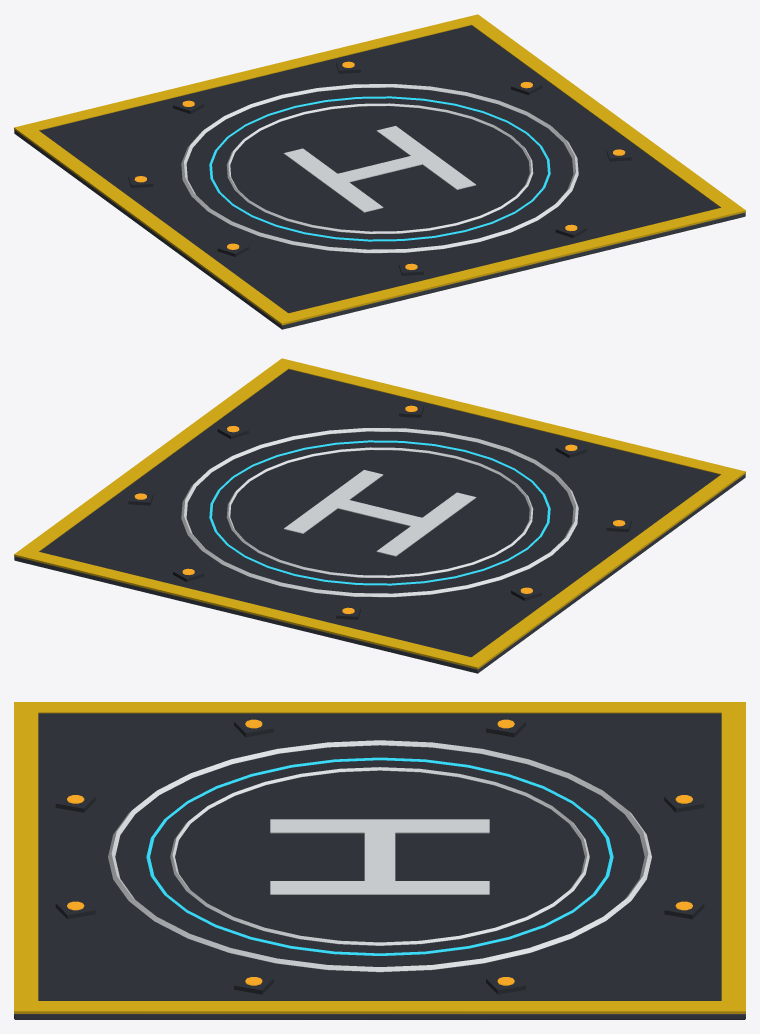
The model's file is hangartool_landing_pad_circle.glb.
3 views of the same model, one above another, from view 1: azimuth 30°, elevation 25°; view 2: azimuth 150°, elevation 25°; view 3: azimuth 270°, elevation 25° (orthographic). The views are drawn at different scales.
Parts seen in each view (by area): view 1: hangartool_landing_pad_circle; view 2: hangartool_landing_pad_circle; view 3: hangartool_landing_pad_circle.
Boxes of the visible parts, box(x1,y1,x2,y2) form: hangartool_landing_pad_circle: box(14, 14, 745, 329); hangartool_landing_pad_circle: box(14, 358, 745, 673); hangartool_landing_pad_circle: box(14, 702, 745, 1019).
Size of the model in its own units: 6 by 0.125 by 6.
